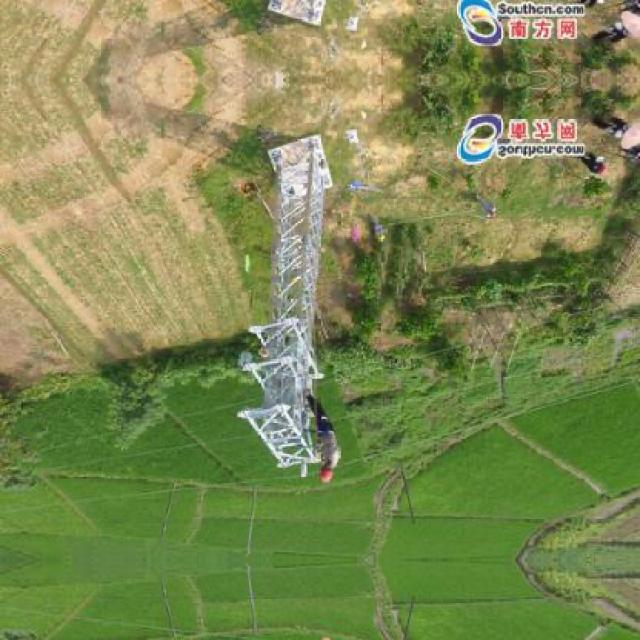sin casco: (312, 443, 339, 489)
